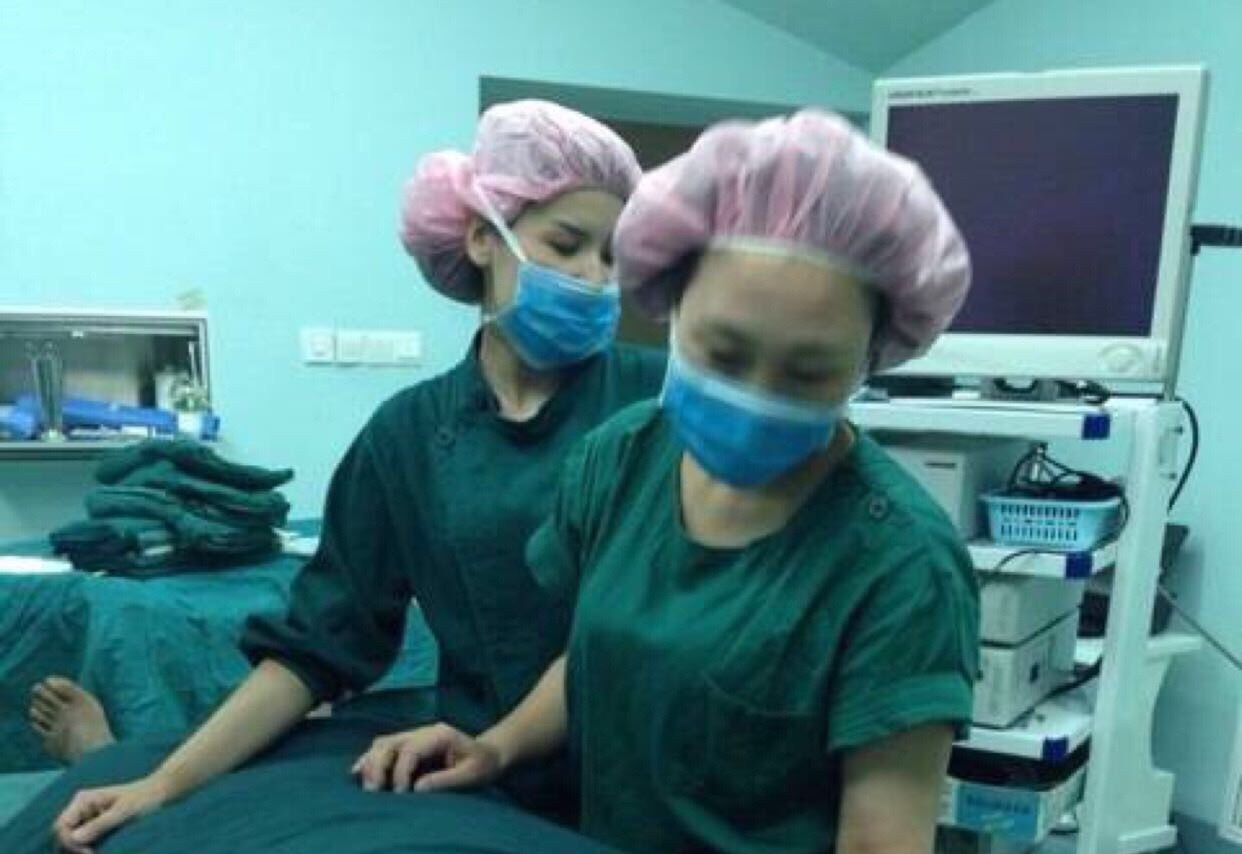face_mask: (659, 246, 871, 473), (496, 186, 622, 367)
